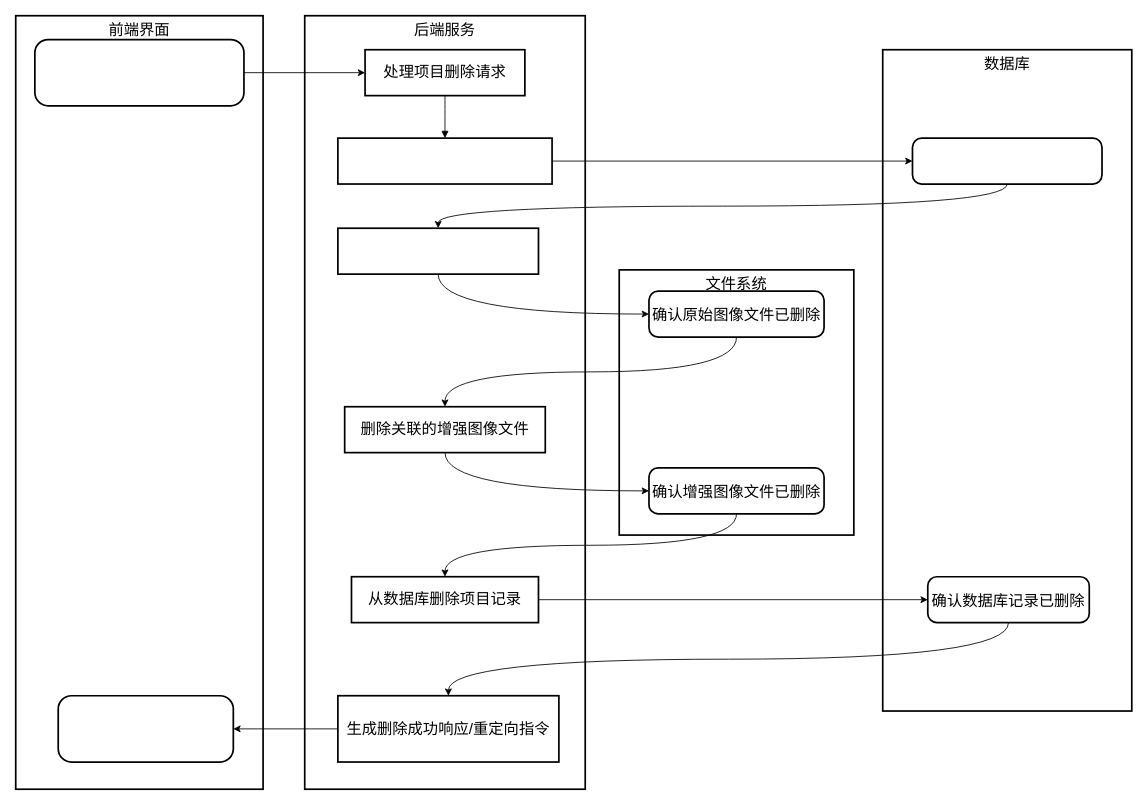
The diagram is 1147 pixels wide and 804 high, and some of its shapes have lost their labels. The shapes that lost their labels are listed below. From the top down, each one's box as (x1, y1, x2, y2) in pixels, then its label:
(34, 38, 244, 106): 发送项目删除请求
(337, 137, 552, 184): 查询项目记录获取文件路径
(911, 137, 1102, 184): 返回项目记录 (含文件路径)
(337, 227, 539, 275): 删除关联的原始图像文件
(57, 694, 234, 762): 从列表中移除已删除项目
